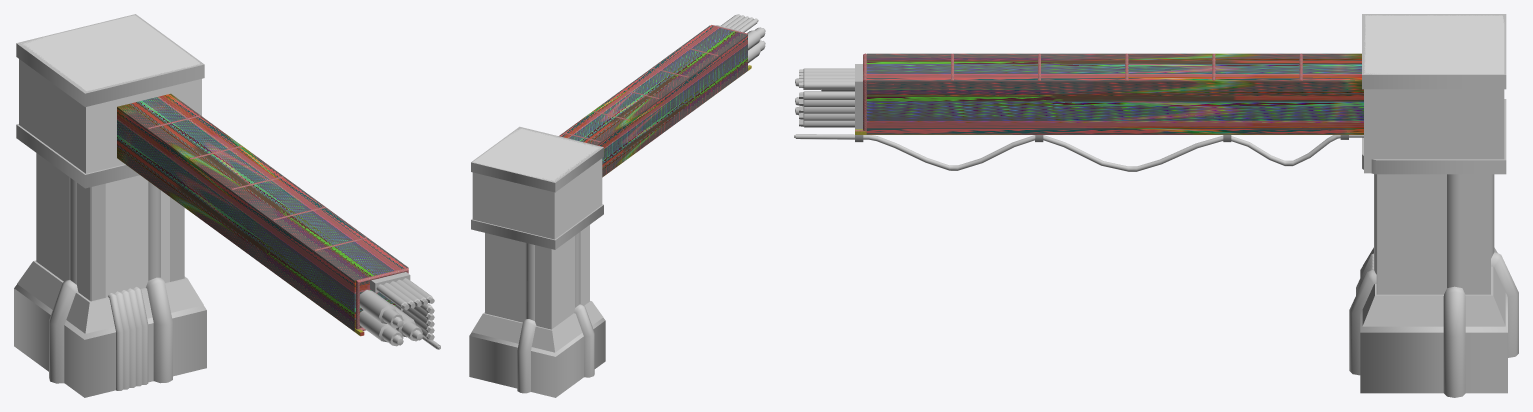
Rendered from Umbilical_Clamp.FBX.
The picture shows the model from 3 angles, left to right: view 1: azimuth 30°, elevation 25°; view 2: azimuth 150°, elevation 25°; view 3: azimuth 270°, elevation 25°; orthographic projection. The views are drawn at different scales.
Visible parts, largest first — view 1: Umbilical_Arm_Col, Umbilical_Cap_Col, Umbilical_Tower_Col, Umbilical_Base, Umbilical_Base_Pipes, Umbilical_Cap, Umbilical_Tower, UmbilicalSm_Pipes, Base_Col, Umbilical_Clamp; view 2: Umbilical_Arm_Col, Umbilical_Cap_Col, Umbilical_Tower_Col, Umbilical_Base, Umbilical_Cap, Base_Col, Umbilical_Base_Pipes, Umbilical_Tower, UmbilicalSm_Pipes, Umbilical_Clamp; view 3: Umbilical_Arm_Col, Umbilical_Cap_Col, Umbilical_Tower_Col, Umbilical_Base, Umbilical_Cap, Umbilical_Base_Pipes, Base_Col, UmbilicalSm_Pipes, Umbilical_Vable, Umbilical_Tower, Umbilical_Clamp.
Boxes of the visible parts, left/top/right/bottom form: Umbilical_Arm_Col: left=117, top=93, right=408, bottom=331; Umbilical_Cap_Col: left=19, top=15, right=201, bottom=173; Umbilical_Tower_Col: left=36, top=153, right=169, bottom=301; Umbilical_Base: left=14, top=284, right=206, bottom=397; Umbilical_Base_Pipes: left=49, top=277, right=172, bottom=390; Umbilical_Cap: left=16, top=14, right=204, bottom=188; Umbilical_Tower: left=69, top=177, right=184, bottom=301; UmbilicalSm_Pipes: left=359, top=272, right=434, bottom=346; Base_Col: left=17, top=260, right=203, bottom=333; Umbilical_Clamp: left=123, top=115, right=408, bottom=336; Umbilical_Arm_Col: left=559, top=25, right=747, bottom=177; Umbilical_Cap_Col: left=472, top=128, right=602, bottom=239; Umbilical_Tower_Col: left=485, top=225, right=589, bottom=329; Umbilical_Base: left=469, top=317, right=605, bottom=397; Umbilical_Cap: left=471, top=126, right=603, bottom=249; Base_Col: left=471, top=301, right=603, bottom=352; Umbilical_Base_Pipes: left=517, top=304, right=594, bottom=393; Umbilical_Tower: left=525, top=232, right=580, bottom=320; UmbilicalSm_Pipes: left=716, top=14, right=765, bottom=63; Umbilical_Clamp: left=564, top=25, right=751, bottom=174; Umbilical_Arm_Col: left=866, top=53, right=1363, bottom=134; Umbilical_Cap_Col: left=1364, top=15, right=1504, bottom=173; Umbilical_Tower_Col: left=1377, top=174, right=1490, bottom=294; Umbilical_Base: left=1360, top=267, right=1507, bottom=393; Umbilical_Cap: left=1362, top=14, right=1506, bottom=174; Umbilical_Base_Pipes: left=1349, top=252, right=1518, bottom=397; Base_Col: left=1362, top=247, right=1505, bottom=326; UmbilicalSm_Pipes: left=795, top=64, right=1348, bottom=142; Umbilical_Vable: left=794, top=134, right=1363, bottom=171; Umbilical_Tower: left=1374, top=174, right=1494, bottom=294; Umbilical_Clamp: left=855, top=53, right=1363, bottom=134.
Bounding box in the file's own units: 194 × 401 × 829.
